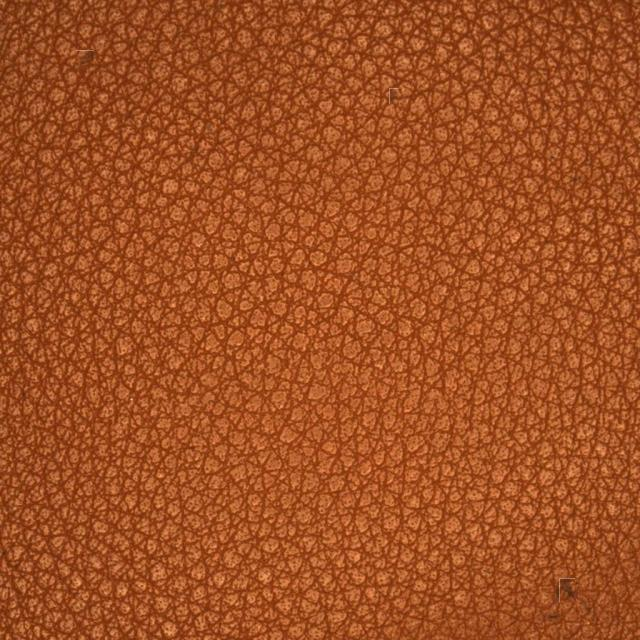Hole: (460, 510, 625, 623), (23, 17, 150, 131)
